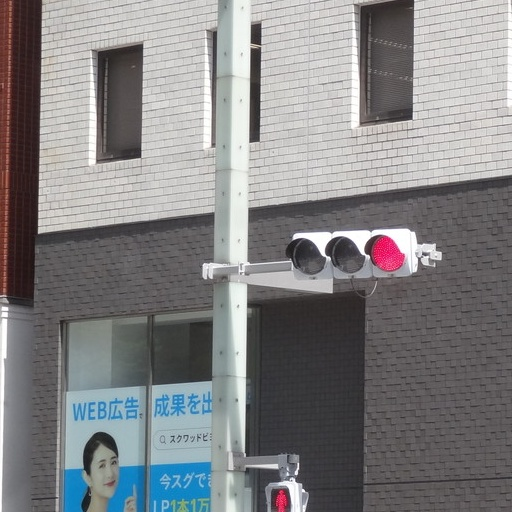Traffic_Signal_Red: (285, 227, 411, 280)
